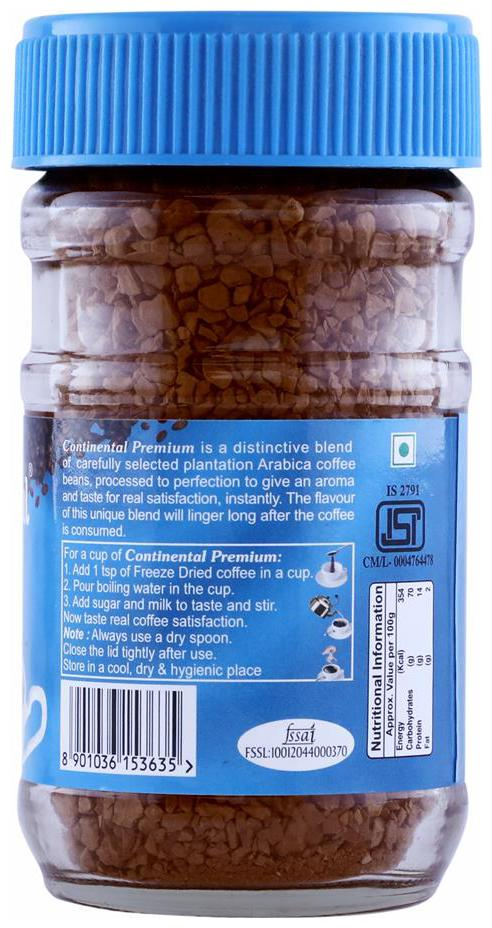fssai: (281, 721, 317, 745)
